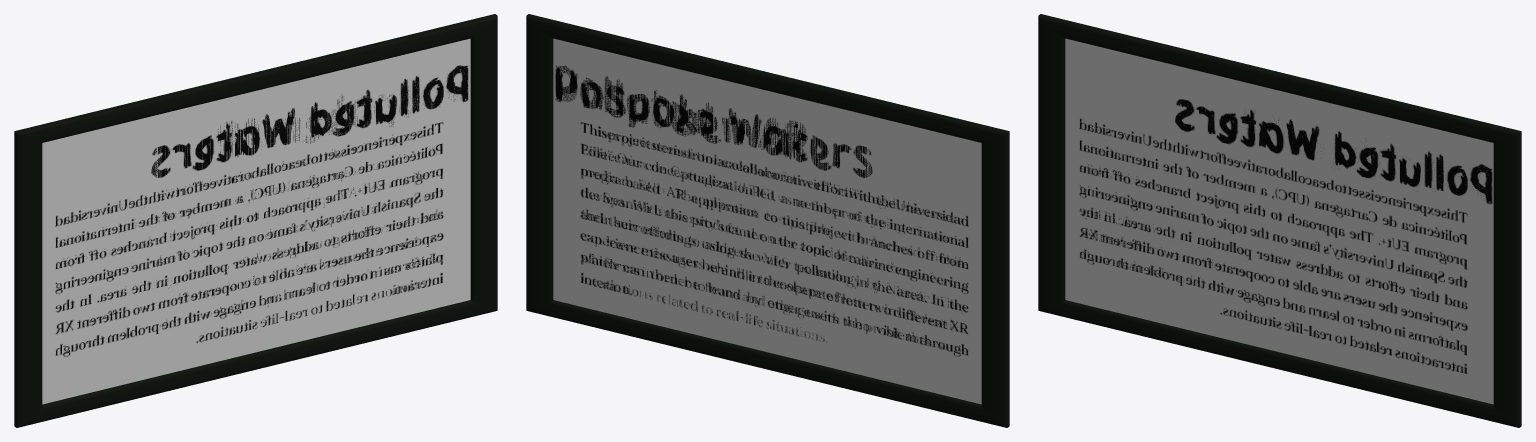
Rendered from Screens.glb.
The picture shows the model from 3 angles, left to right: view 1: azimuth 30°, elevation 25°; view 2: azimuth 150°, elevation 25°; view 3: azimuth 330°, elevation 25°; orthographic projection.
Visible parts, largest first — view 1: Screen Assets, Screen Assets2, Frame; view 2: Screen Assets, Screen Assets2, Frame; view 3: Screen Assets, Frame, Screen Assets2.
Boxes of the visible parts, box(x1,y1,x2,y2) form: Screen Assets: box(42, 38, 470, 404); Screen Assets2: box(42, 47, 470, 393); Frame: box(14, 14, 497, 427); Screen Assets: box(553, 39, 981, 404); Screen Assets2: box(553, 39, 981, 403); Frame: box(526, 14, 1009, 427); Screen Assets: box(1065, 38, 1493, 404); Frame: box(1038, 14, 1521, 427); Screen Assets2: box(1065, 40, 1492, 364).
Bounding box in the file's own units: 1.01 × 0.5926 × 0.0169.
Materials: 7 (6 with a texture image).
